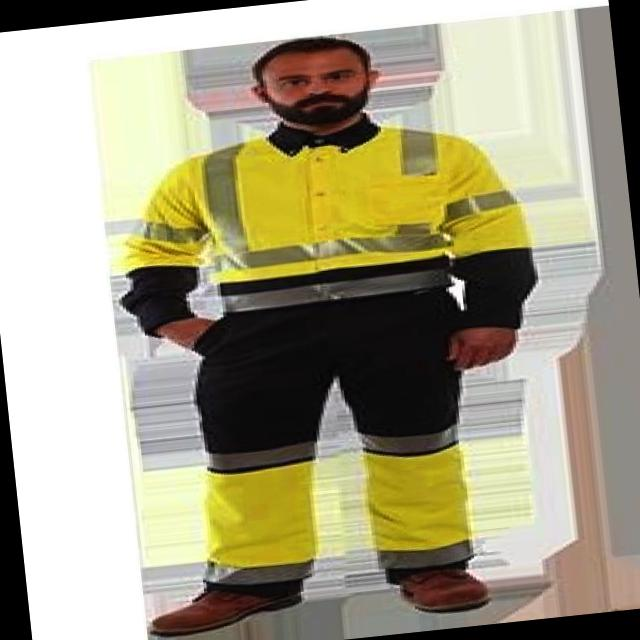vest: (162, 97, 548, 298)
